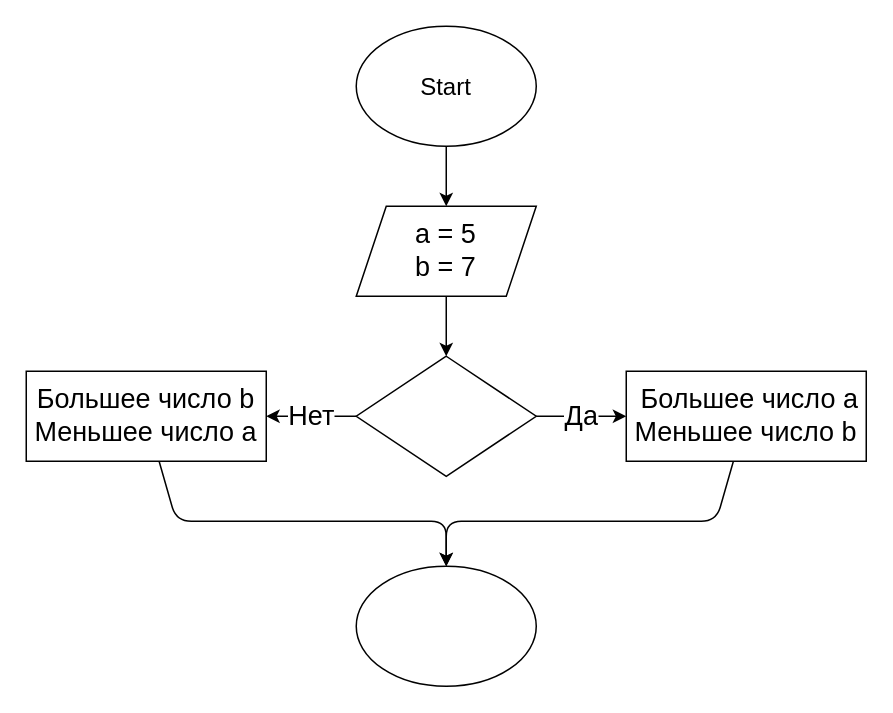
This 893x713 diagram has some shape labels left out. Each missing label, with the centre of its shape:
"a > b" goes at point 445,415.
"End" goes at point 445,625.
